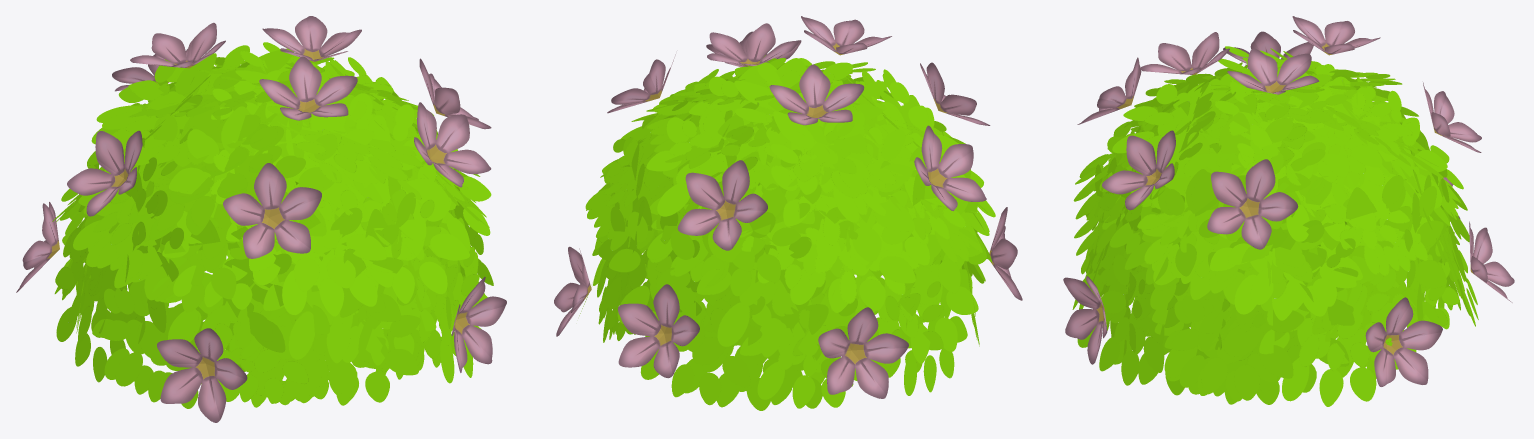
File: Bush_Flowers.glb
3 renders of one model, left to right at view 1: azimuth 30°, elevation 25°; view 2: azimuth 150°, elevation 25°; view 3: azimuth 270°, elevation 25°, orthographic. The views are drawn at different scales.
Bounding box in the file's own units: 1.09 × 0.7586 × 1.11.
Materials: 2 (2 with a texture image).
